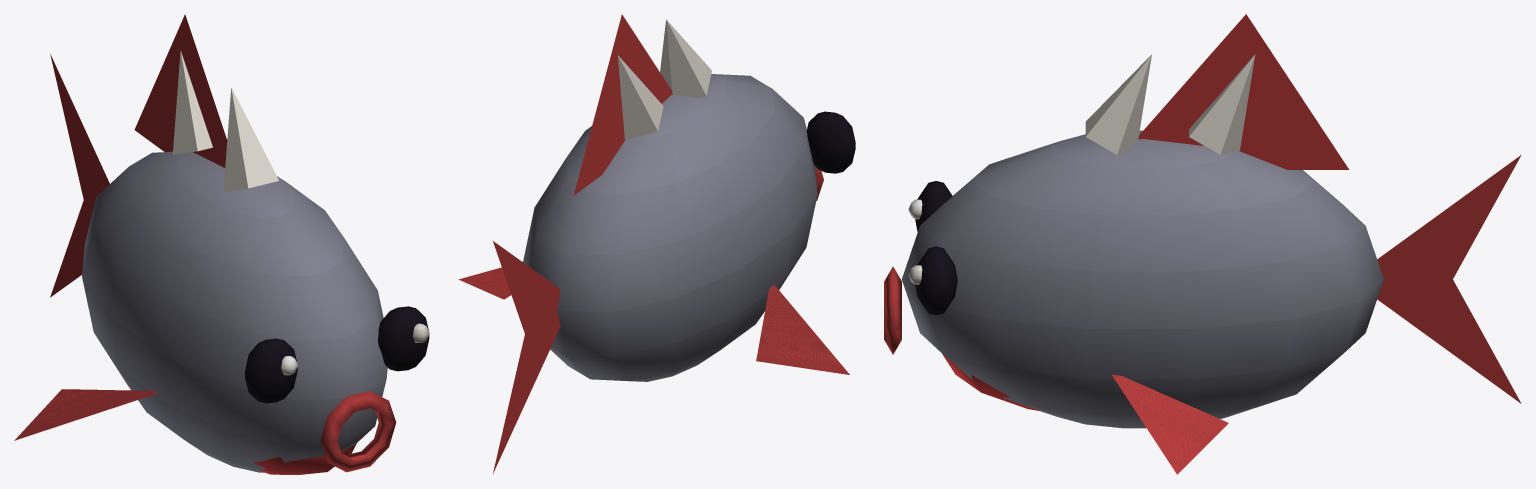
The model's file is monster_piranha.glb.
3 renders of one model, left to right at view 1: azimuth 30°, elevation 25°; view 2: azimuth 150°, elevation 25°; view 3: azimuth 270°, elevation 25°, orthographic. The views are drawn at different scales.
Visible parts, largest first — view 1: body_t0_bob3_palette, tail_t0_palette; view 2: body_t0_bob3_palette, tail_t0_palette; view 3: body_t0_bob3_palette, tail_t0_palette.
Boxes of the visible parts, x1,y1,x2,y2 form: body_t0_bob3_palette: (14,14,429,474); tail_t0_palette: (50,54,109,297); body_t0_bob3_palette: (458,14,855,381); tail_t0_palette: (493,241,560,473); body_t0_bob3_palette: (884,14,1383,474); tail_t0_palette: (1377,155,1521,403).
Size of the model in its own units: 0.28 by 0.26 by 0.3702.
